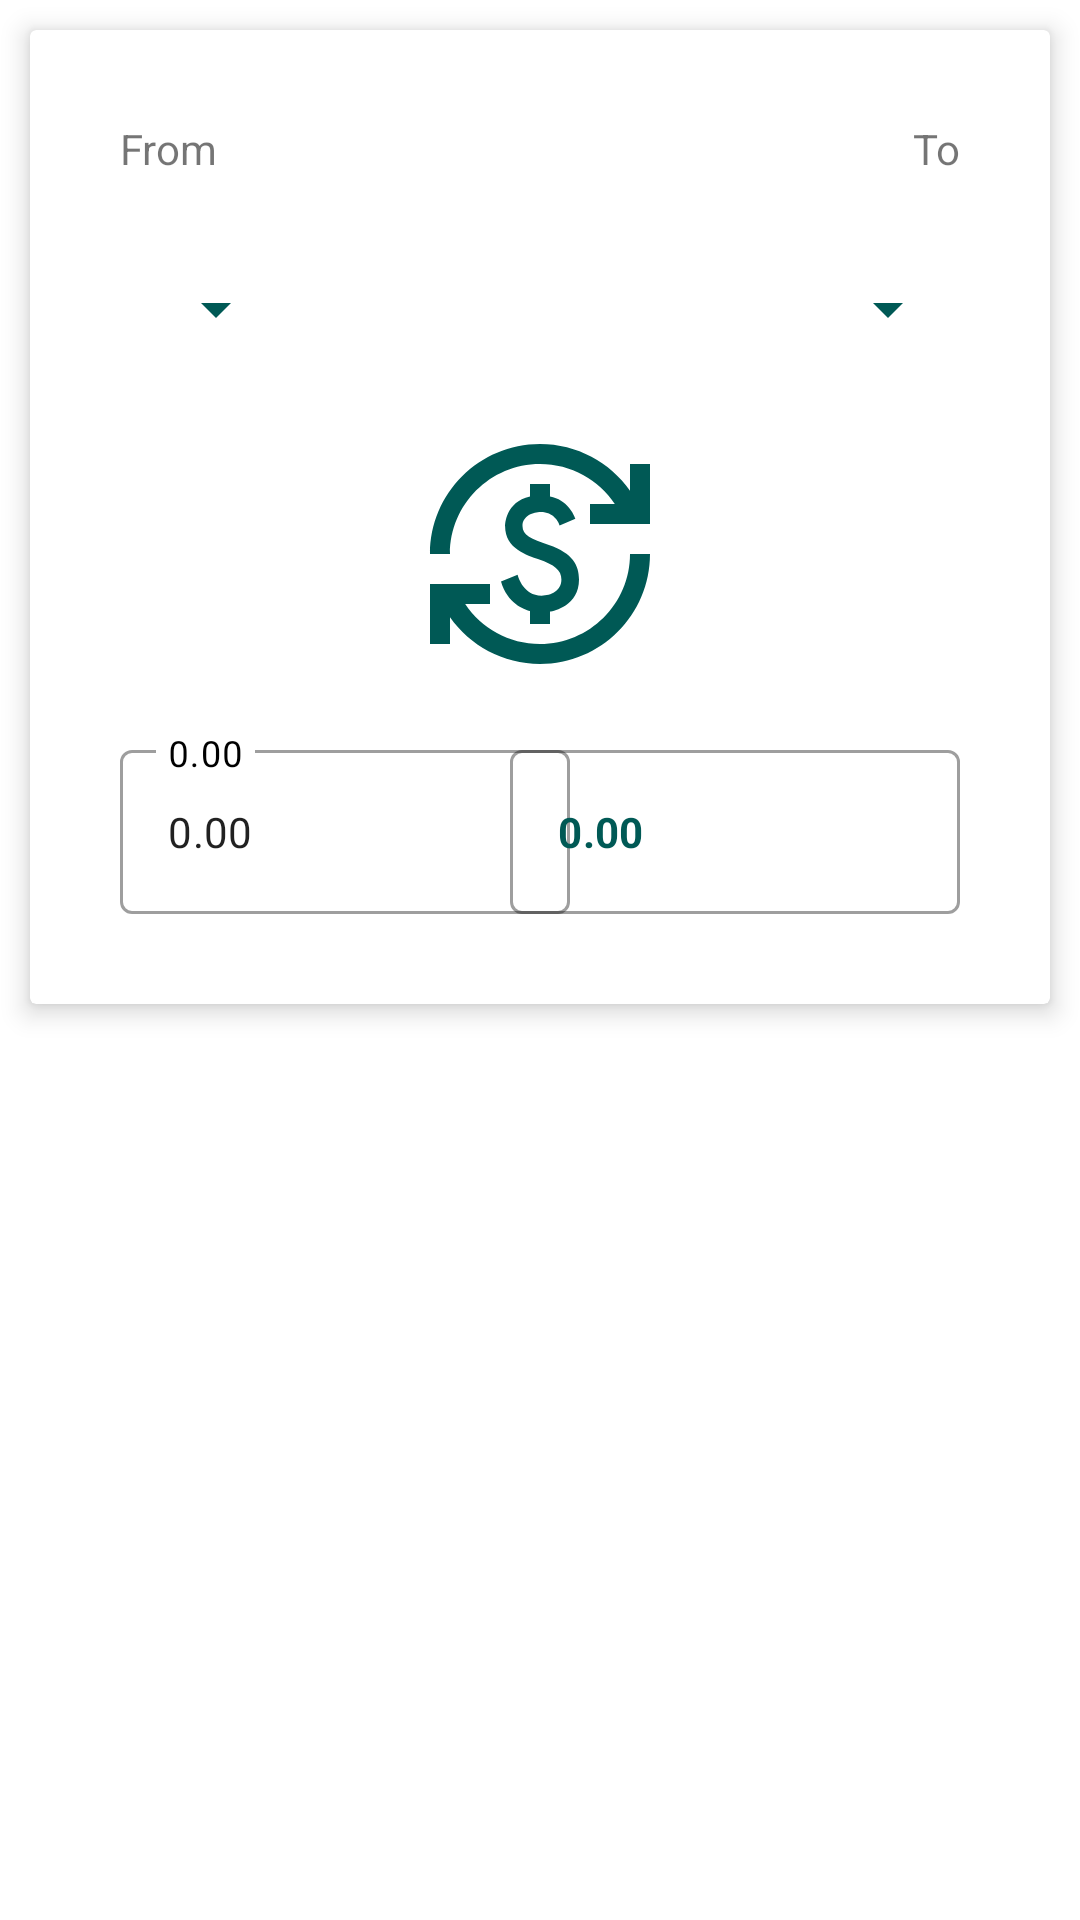

Point at icon controls on the screen. Image size 1080w x 1920h, points as (x=x, y=y).
currency exchange: (x=540, y=554)
